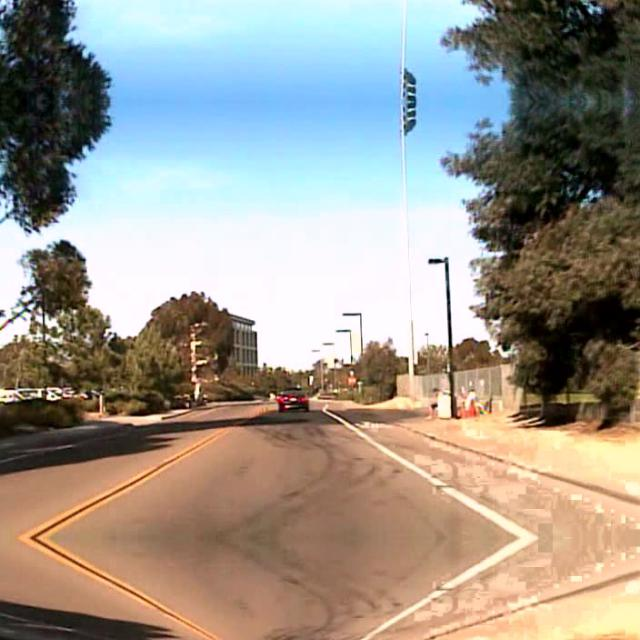stop: (346, 374, 356, 384)
